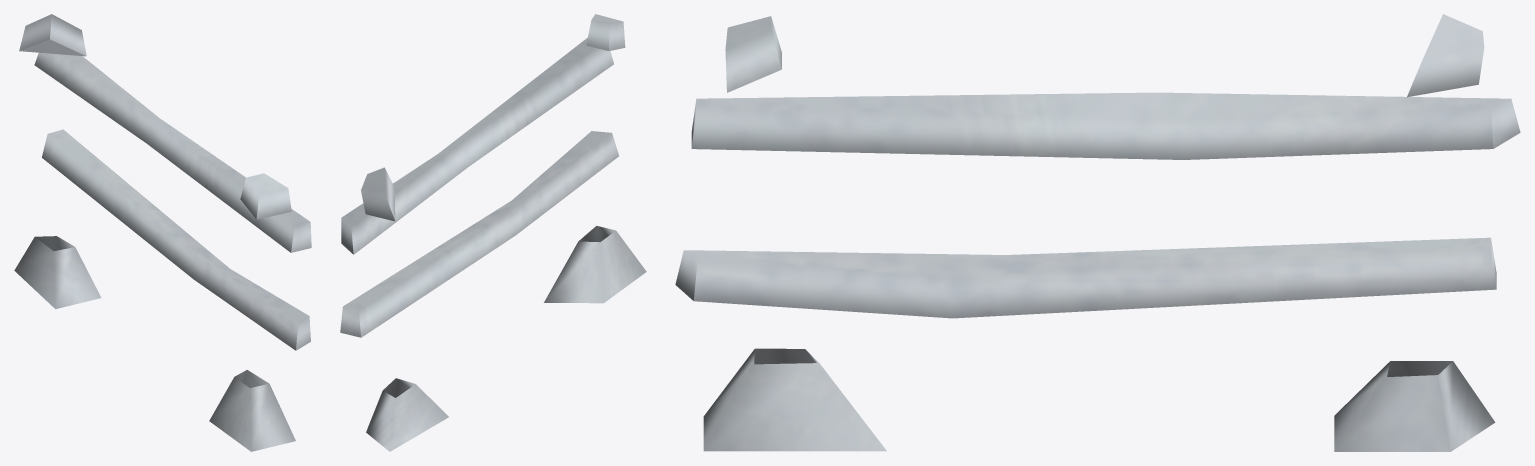
The model's file is Fence_1_Snow.fbx.
The picture shows the model from 3 angles, left to right: view 1: azimuth 30°, elevation 25°; view 2: azimuth 150°, elevation 25°; view 3: azimuth 270°, elevation 25°; orthographic projection. The views are drawn at different scales.
Visible parts, largest first — view 1: Fence_1_Snow; view 2: Fence_1_Snow; view 3: Fence_1_Snow.
Boxes of the visible parts, x1=… form: Fence_1_Snow: x1=14, y1=14, x2=311, y2=451; Fence_1_Snow: x1=340, y1=14, x2=646, y2=451; Fence_1_Snow: x1=675, y1=14, x2=1520, y2=451.
Bounding box in the file's own units: 23.26 × 101 × 183.
